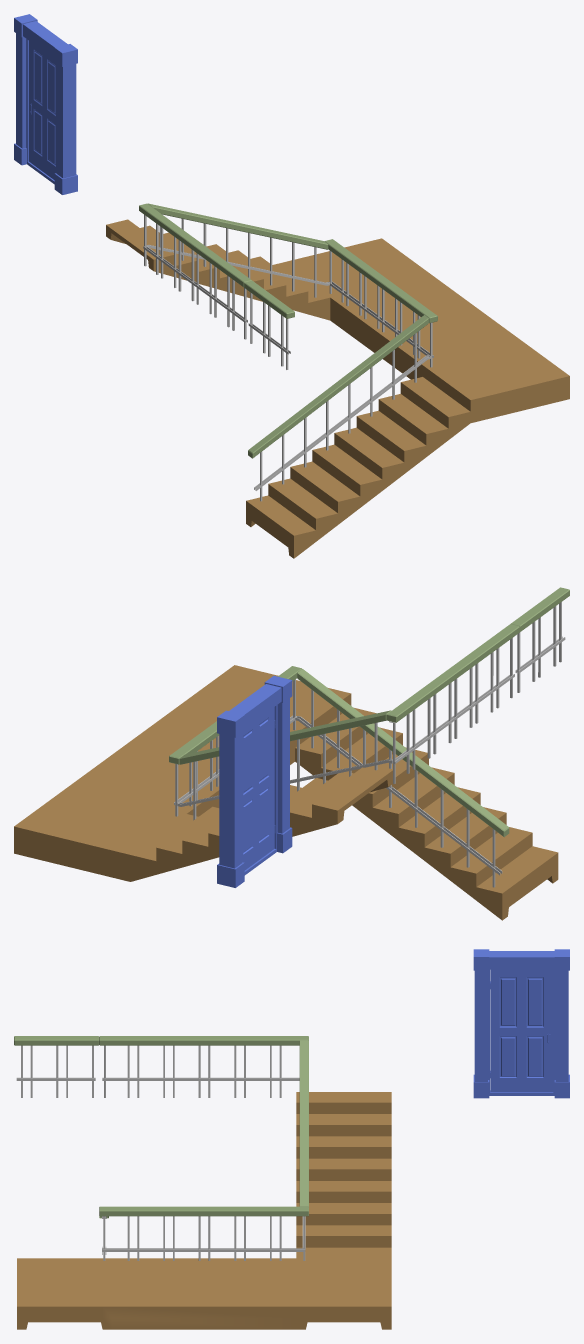
Rendered from walls.fbx.
The picture shows the model from 3 angles, top to bottom: view 1: azimuth 30°, elevation 25°; view 2: azimuth 150°, elevation 25°; view 3: azimuth 270°, elevation 25°; orthographic projection. The views are drawn at different scales.
Parts seen in each view (by area): view 1: stairs, borders, door, door_open, borders_1; view 2: stairs, borders, door, door_open, borders_1; view 3: stairs, borders, door_open, door, borders_1.
Boxes of the visible parts, <box> form: stairs: <box>106,219,569,558</box>; borders: <box>139,203,437,501</box>; door: <box>14,14,77,194</box>; door_open: <box>29,41,56,179</box>; borders_1: <box>244,280,294,369</box>; stairs: <box>14,665,558,920</box>; borders: <box>169,624,519,887</box>; door: <box>217,675,292,887</box>; door_open: <box>242,707,274,870</box>; borders_1: <box>510,587,569,692</box>; stairs: <box>17,1092,391,1329</box>; borders: <box>99,1036,308,1260</box>; door_open: <box>490,969,553,1092</box>; door: <box>473,949,569,1098</box>; borders_1: <box>14,1036,99,1097</box>.
Bounding box in the file's own units: 516 × 586 × 875.
